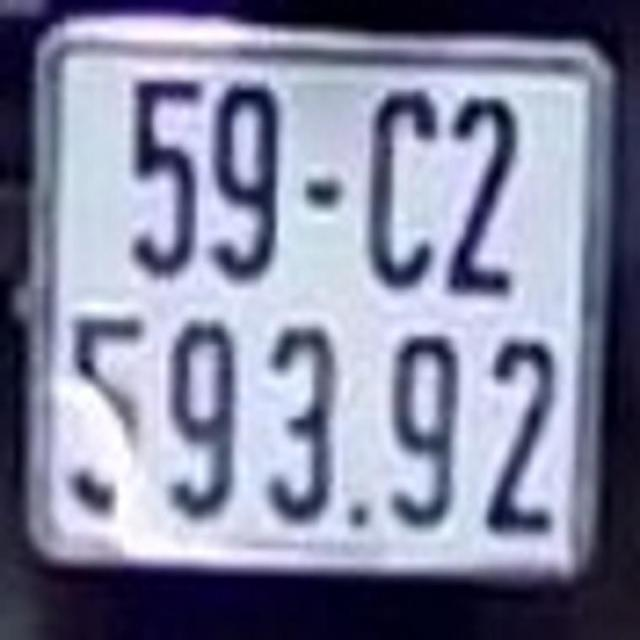2: (452, 94, 516, 300), (488, 332, 552, 532)
3: (267, 320, 330, 514)
5: (66, 314, 144, 514), (130, 74, 202, 279)
9: (212, 85, 280, 278), (175, 323, 234, 519), (396, 330, 455, 526)
C: (370, 90, 438, 280)
